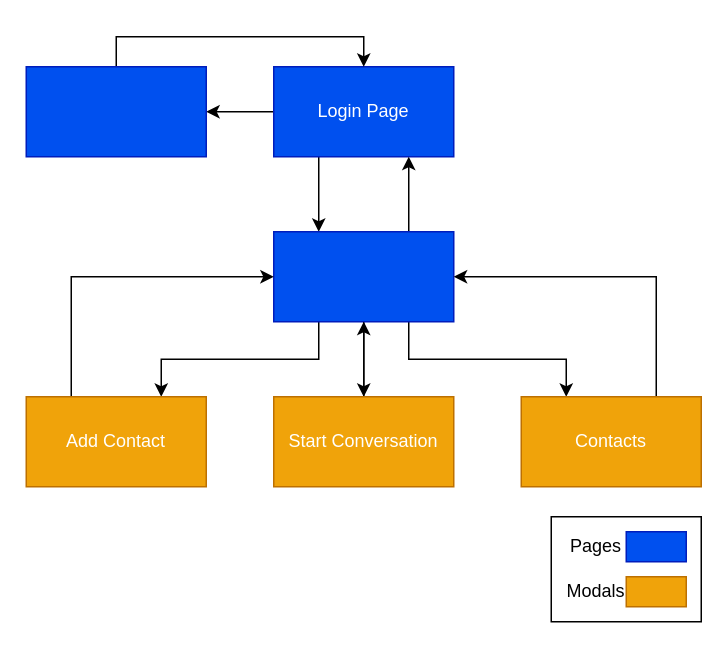
This 728x648 diagram has some shape labels left out. Each missing label, with the centre of its shape:
"Main Page" belongs at (363,276).
"Registration Page" belongs at (115,111).
